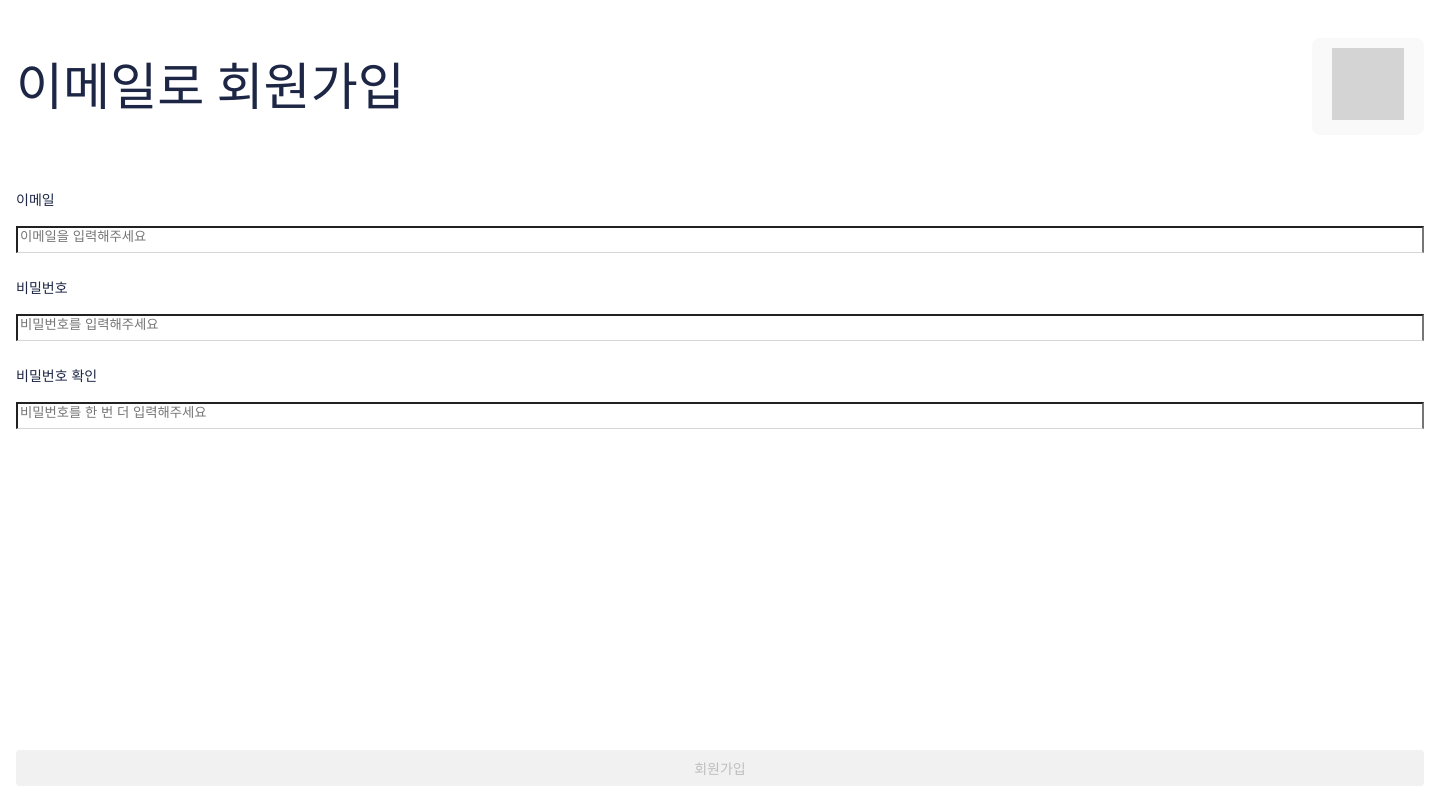
Test: 회원가입 테스트 › 이메일을 입력하고, 비밀번호와 비밀번호 확인 값이 일치하면 회원가입 버튼이 활성화 된다.
Expected: the button "회원가입" is disabled, left=16, top=750, right=1424, bottom=786
In the field labelled "이메일": (720, 239) left=16, top=226, right=1424, bottom=253, type "button-activated@email.com"
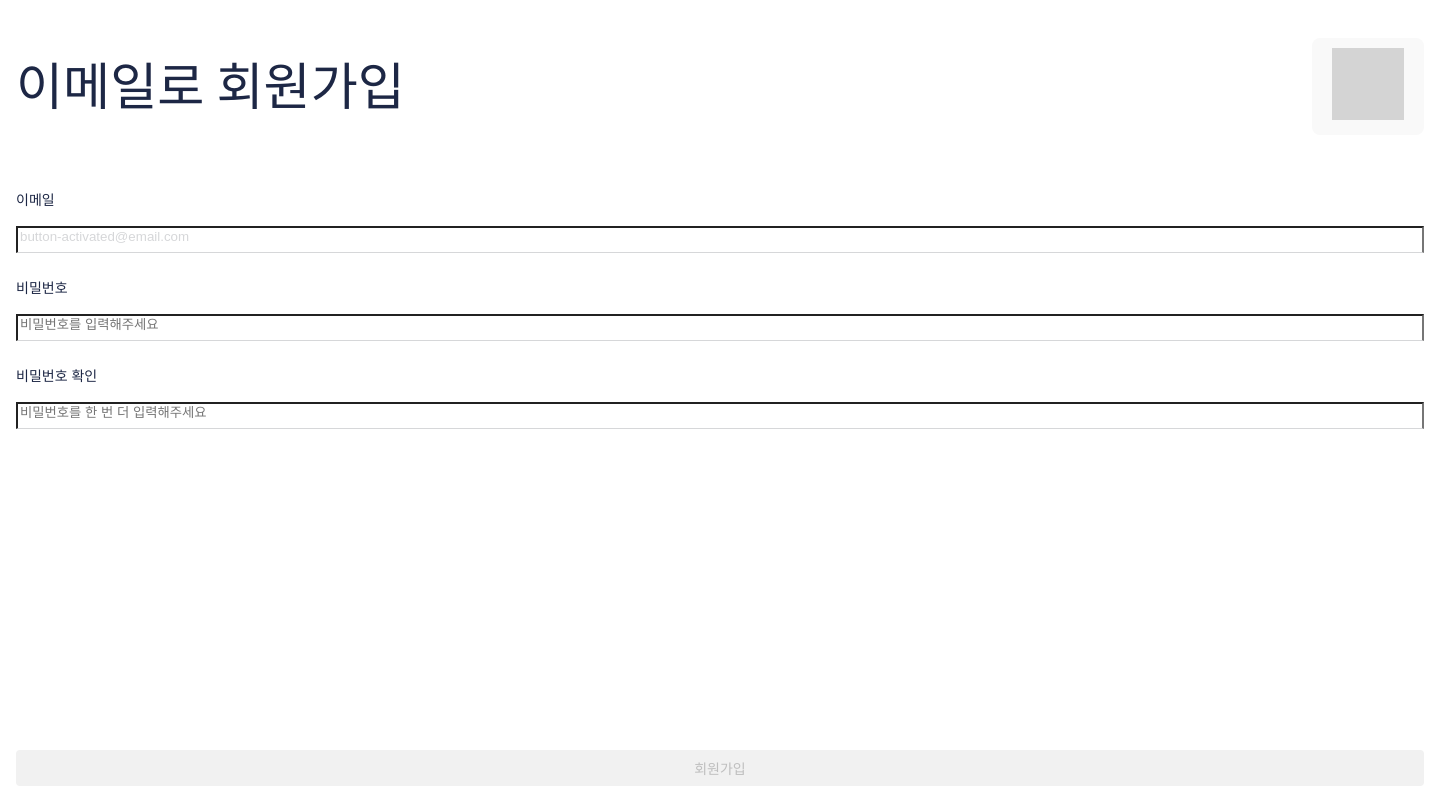
In the password field labelled "비밀번호": (720, 327) left=16, top=314, right=1424, bottom=341, type "password"
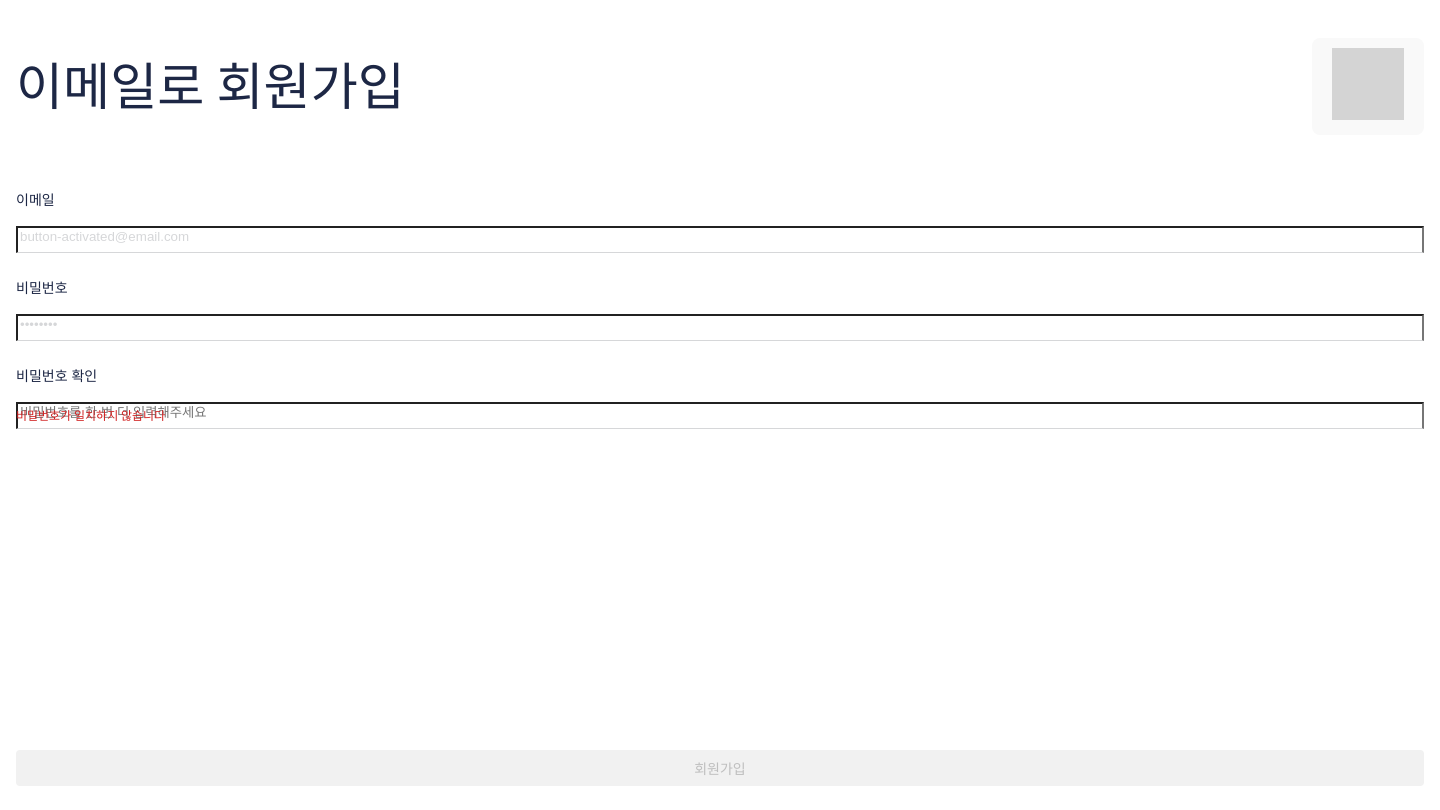
In the password field labelled "비밀번호 확인": (720, 415) left=16, top=402, right=1424, bottom=429, type "password"
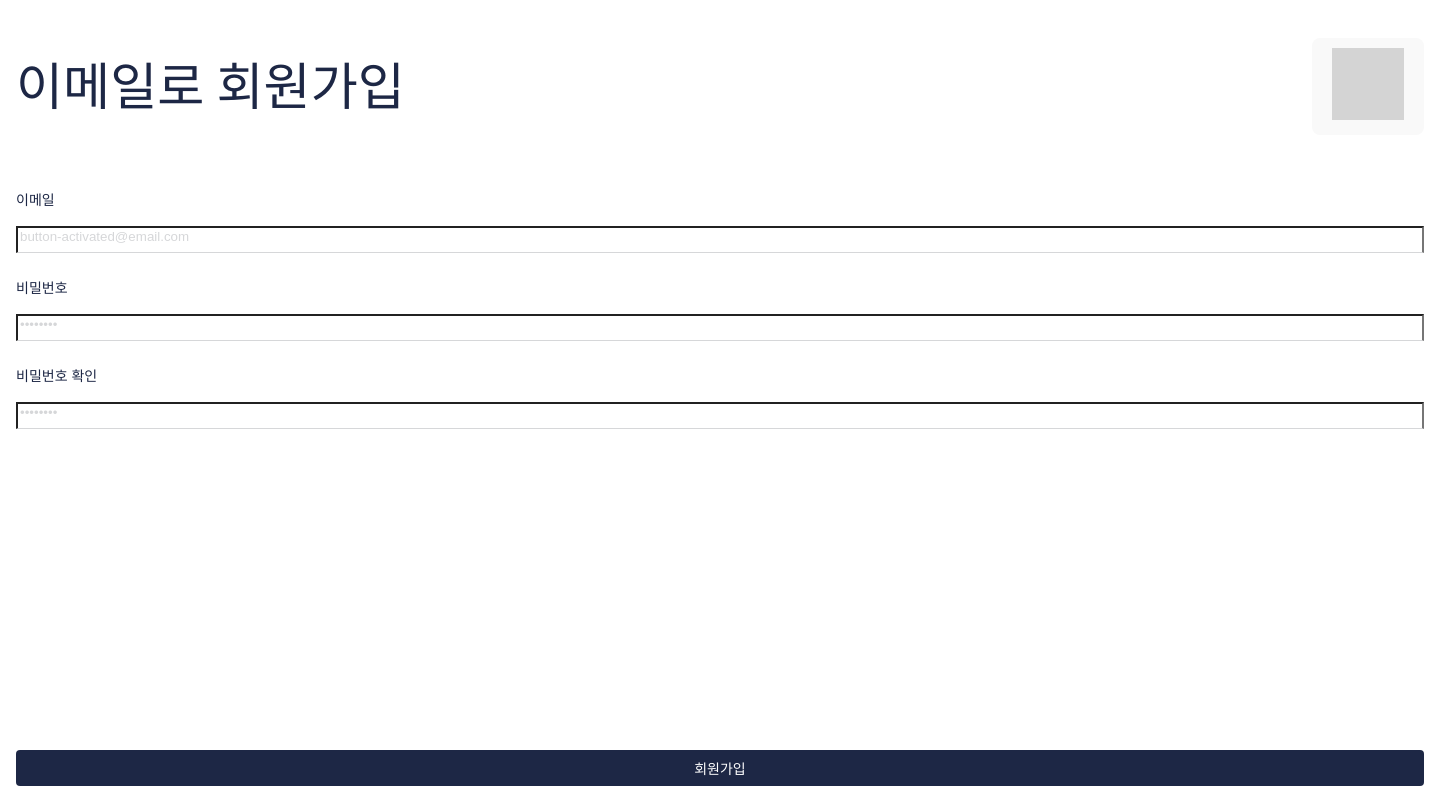
Now the button "회원가입" is enabled, box left=16, top=750, right=1424, bottom=786
